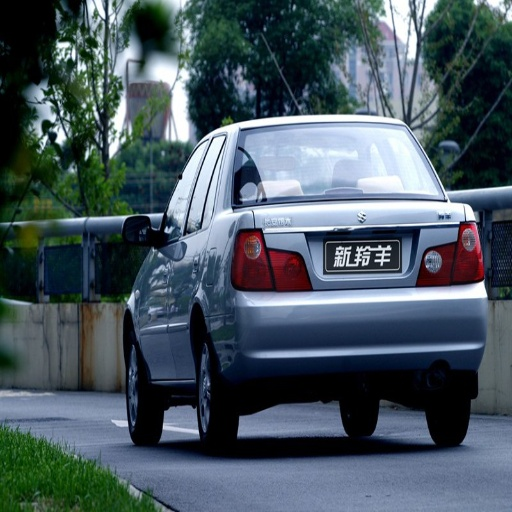back_bumper: (231, 281, 495, 382)
back_glass: (267, 125, 441, 197)
back_left_door: (172, 244, 200, 375)
back_left_light: (229, 230, 273, 289)
tailgate: (309, 197, 456, 284)
trunk: (220, 195, 330, 291)
